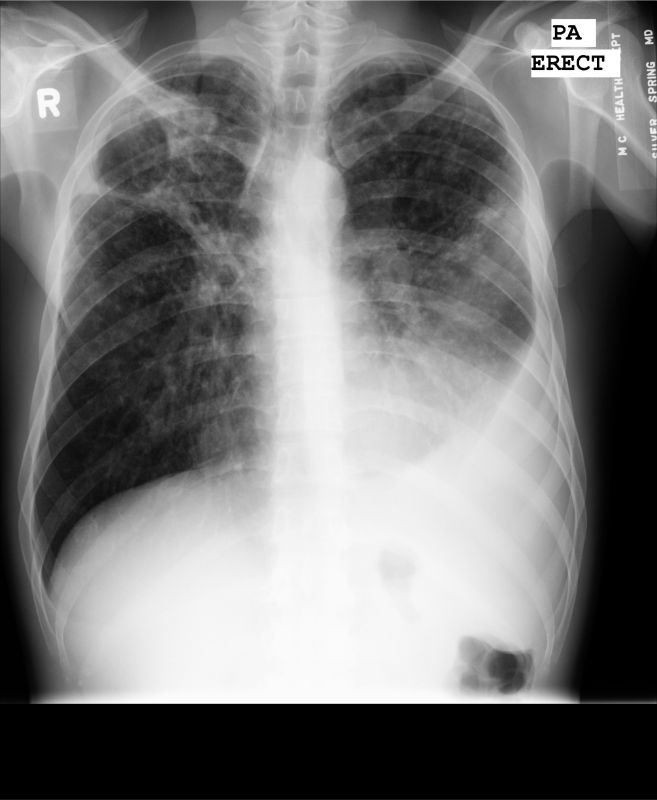Pleural Effusion: (396, 343, 603, 549)
